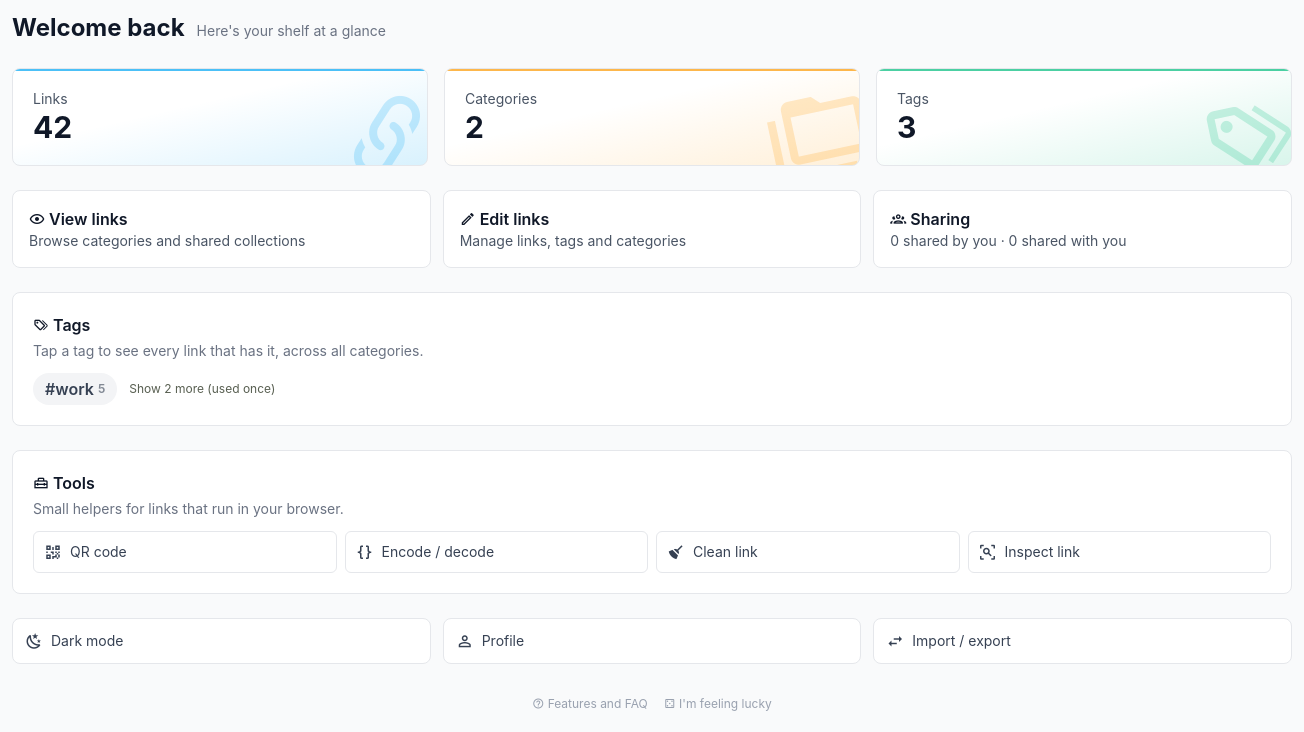
DashboardView › single-use tags › hides tags used once behind a toggle
Click the button "Show 2 more (used once)" at (202, 389), box top-left (125, 381), bottom-right (279, 397)
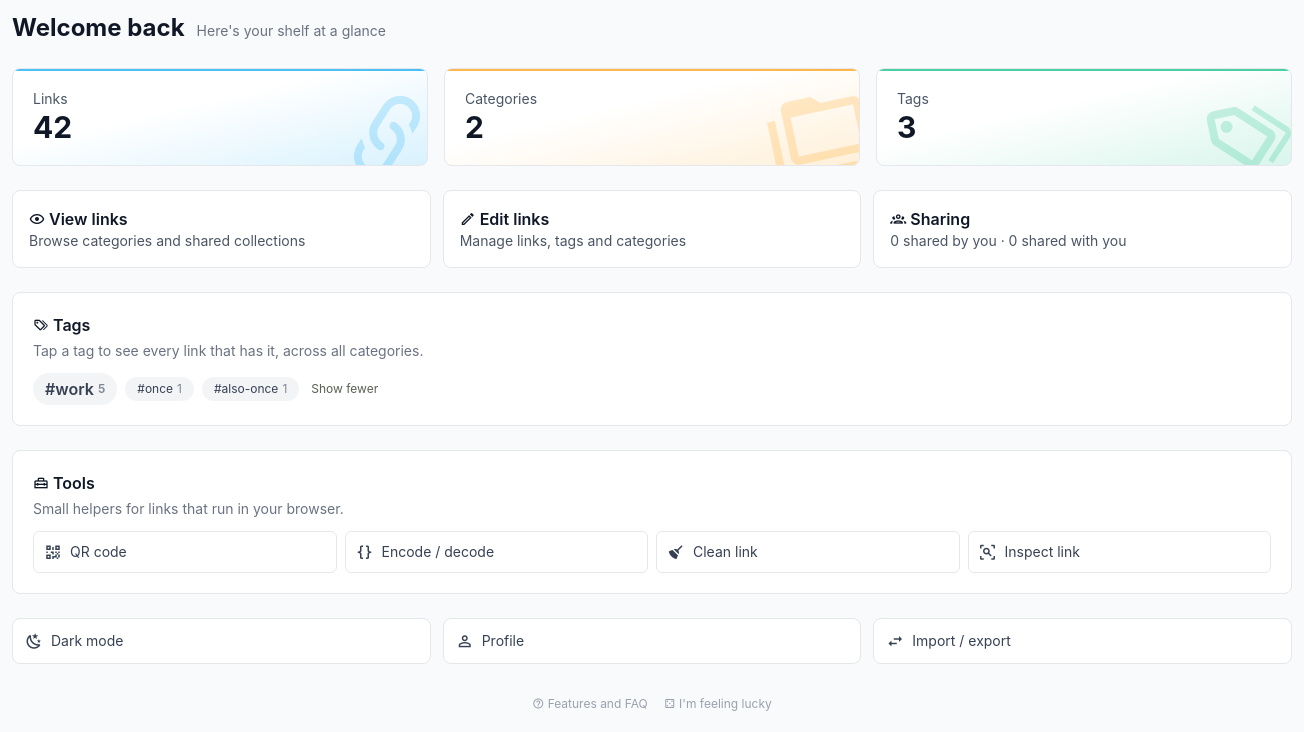
Result: the text "Show fewer" is shown at top-left (307, 381), bottom-right (382, 397)
